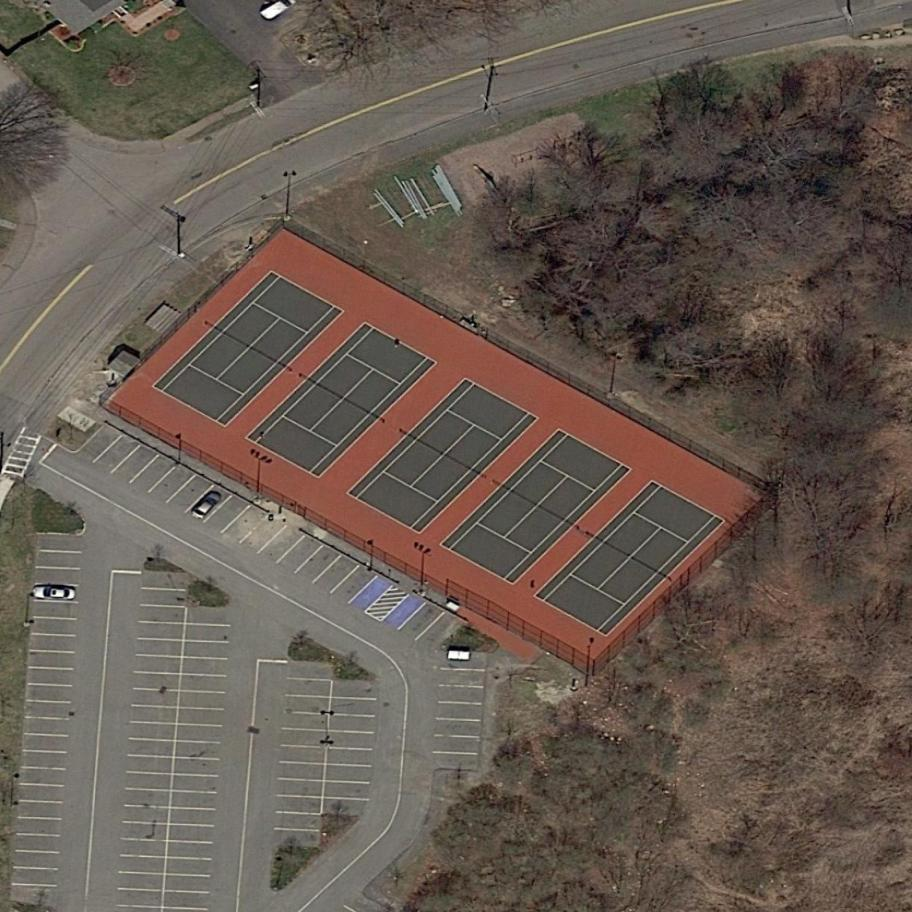small-vehicle: (188, 483, 230, 527), (31, 584, 79, 602)
